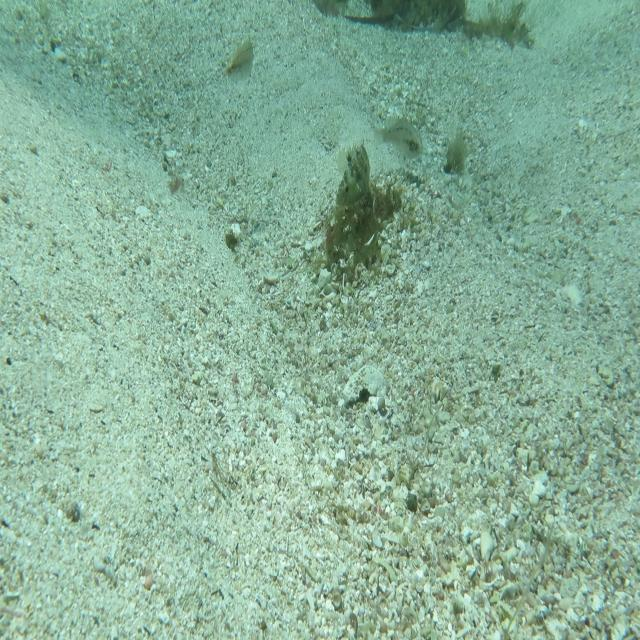BEND_OPP: (333, 136, 373, 209)
female: (372, 113, 425, 161)
nest: (316, 172, 413, 282)
